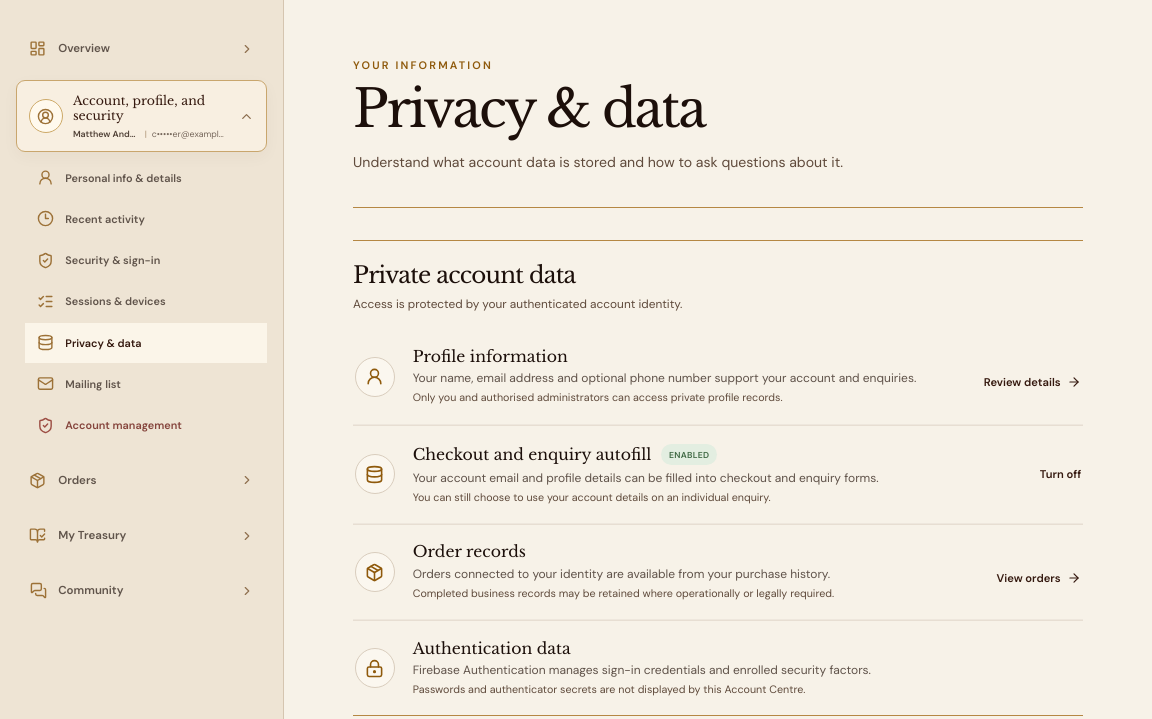
Test: routed Account Centre › allows customers to disable automatic checkout and enquiry details
Click the button "Turn off".
click(1060, 474)  # box [1040,460,1081,489]
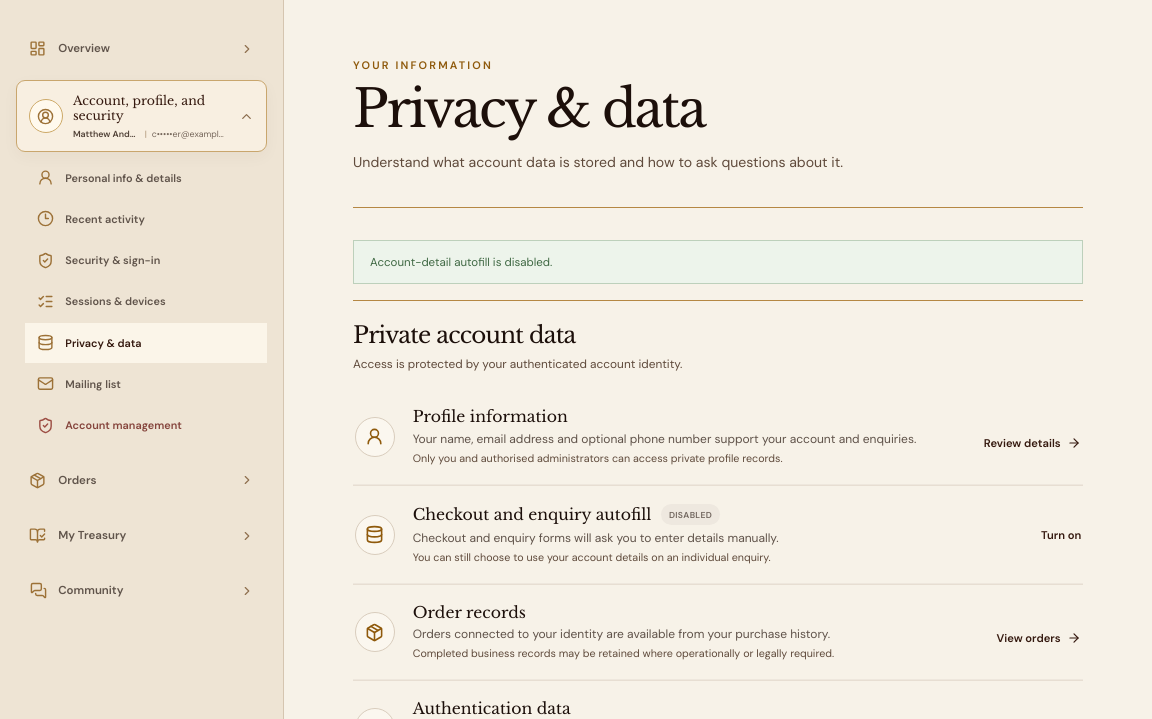
Expected: the button "Turn on" is enabled, [1041,520,1081,549]
Now the text "Account-detail autofill is disabled." is shown, box [353,240,1083,284]
